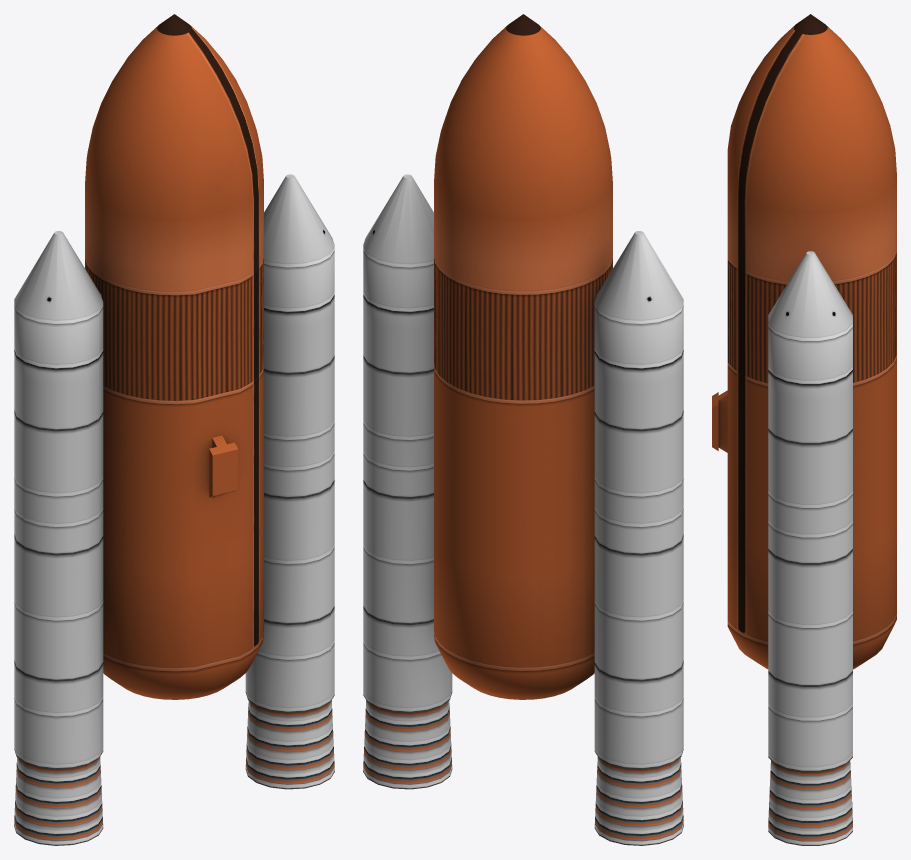
3 views of the same model, side by side, from view 1: azimuth 30°, elevation 25°; view 2: azimuth 150°, elevation 25°; view 3: azimuth 270°, elevation 25° (orthographic). The views are drawn at different scales.
Parts seen in each view (by area): view 1: booster; view 2: booster; view 3: booster.
Part boxes in pixels (<box>): booster: <box>14,14,334,845</box>; booster: <box>363,14,683,845</box>; booster: <box>712,14,896,845</box>.
Bounding box in the file's own units: 28.75 × 70.11 × 15.47.
1 material, 1 textured.
